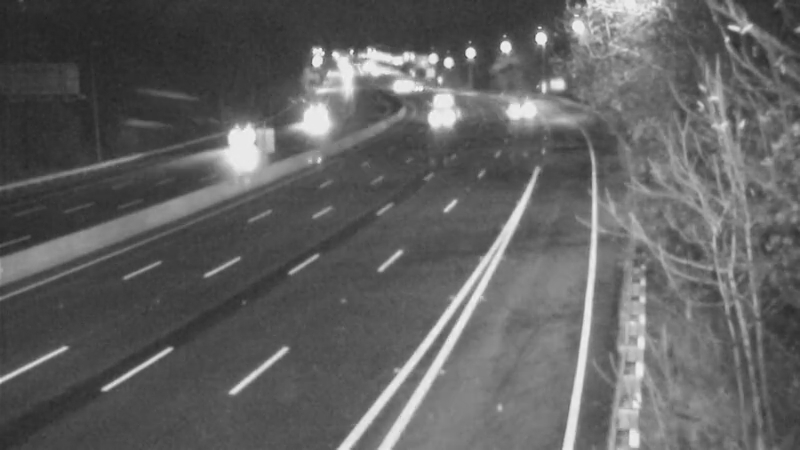vehicle: (372, 64, 422, 114), (388, 62, 438, 112), (410, 72, 460, 122), (496, 85, 546, 135), (414, 95, 464, 145), (215, 114, 265, 164), (288, 97, 338, 147)
